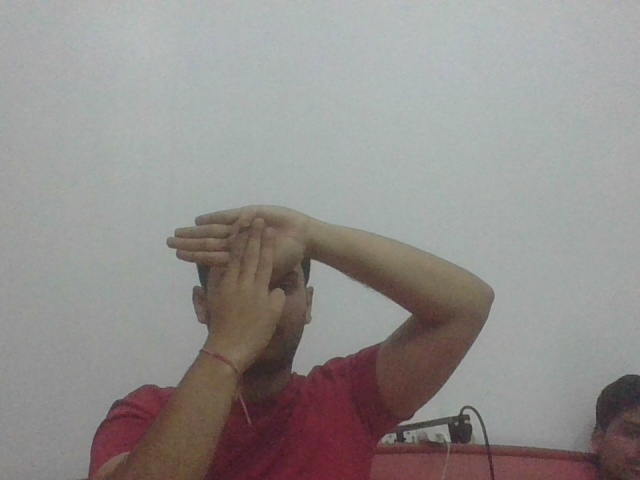M: (165, 203, 298, 342)
